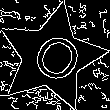O_SW: (20, 24, 83, 90)
